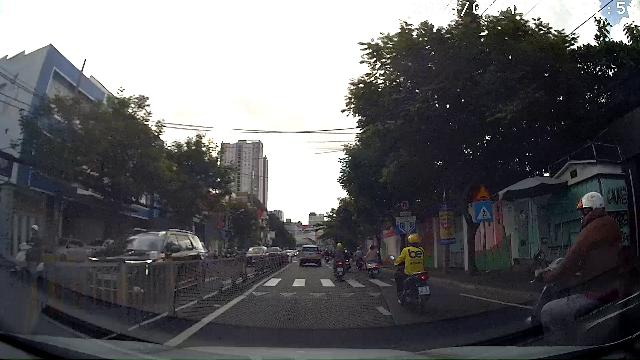423a-duong-nguoi-di-bo-sang-ngang-1: (474, 201, 494, 223)
